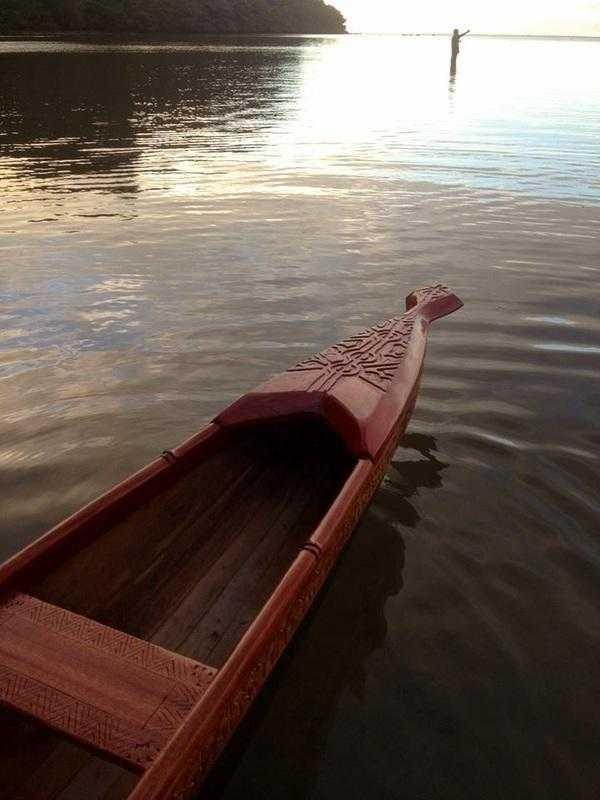kayak: (1, 283, 464, 797)
